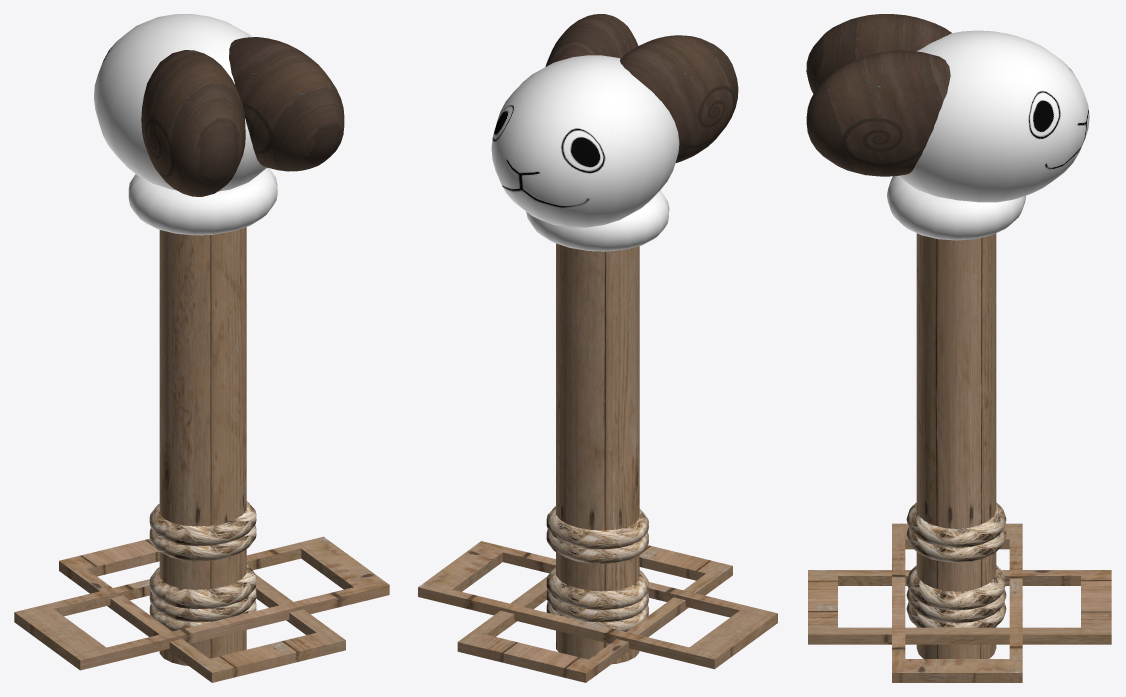
Rendered from miniMerry.obj.
3 views of the same model, side by side, from view 1: azimuth 30°, elevation 25°; view 2: azimuth 150°, elevation 25°; view 3: azimuth 270°, elevation 25° (orthographic). The views are drawn at different scales.
Visible parts, largest first — view 1: polySurface400; view 2: polySurface400; view 3: polySurface400.
Part boxes in pixels (x1,y1,x2,y2): polySurface400: (14, 14, 389, 682); polySurface400: (418, 14, 777, 682); polySurface400: (806, 14, 1111, 682).
Bounding box in the file's own units: 0.569 × 1.09 × 0.4906.
5 materials, 5 textured.
